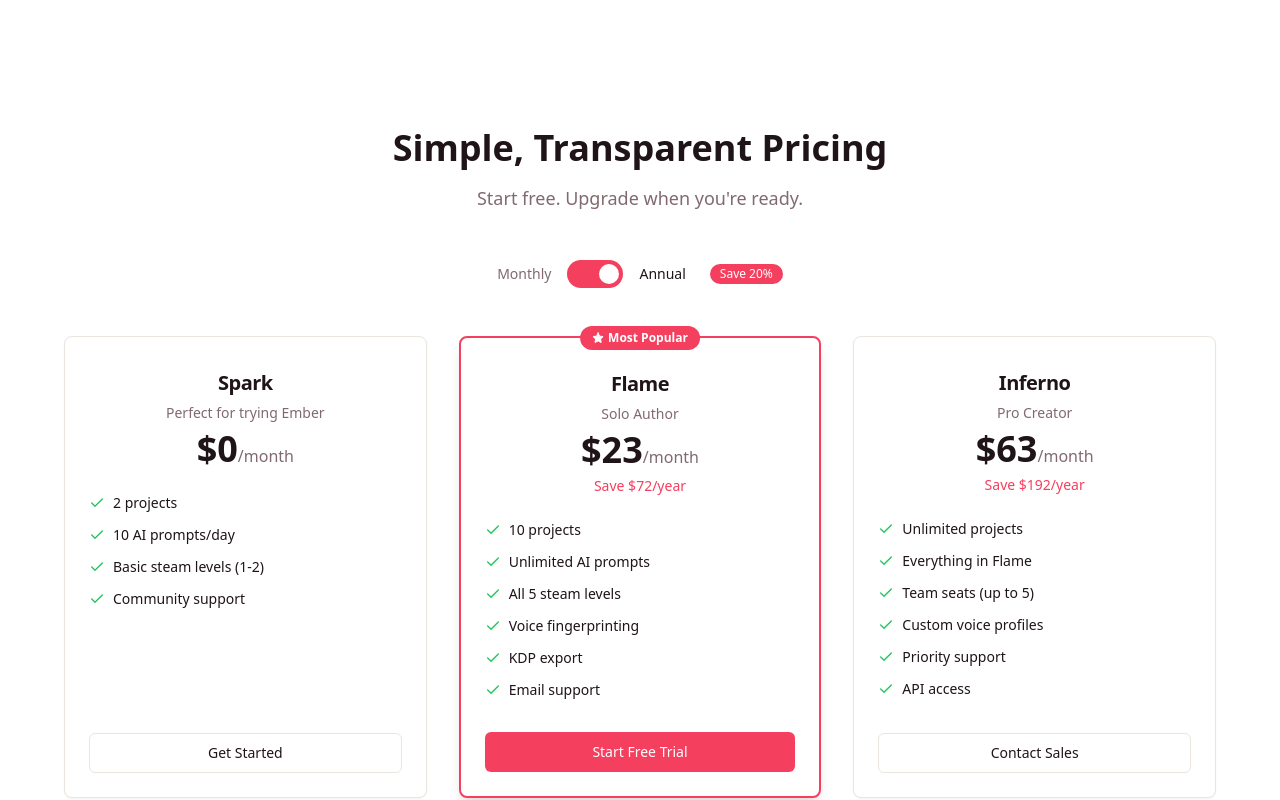
Scenario: PricingSection › toggle switches between monthly and annual pricing
Check: the text "$23" is shown, box x1=581 y1=425 x2=643 y2=474
Note: Click toggle to switch to monthly
Click the button named "Toggle billing period" at (595, 274), box x1=567 y1=260 x2=623 y2=288
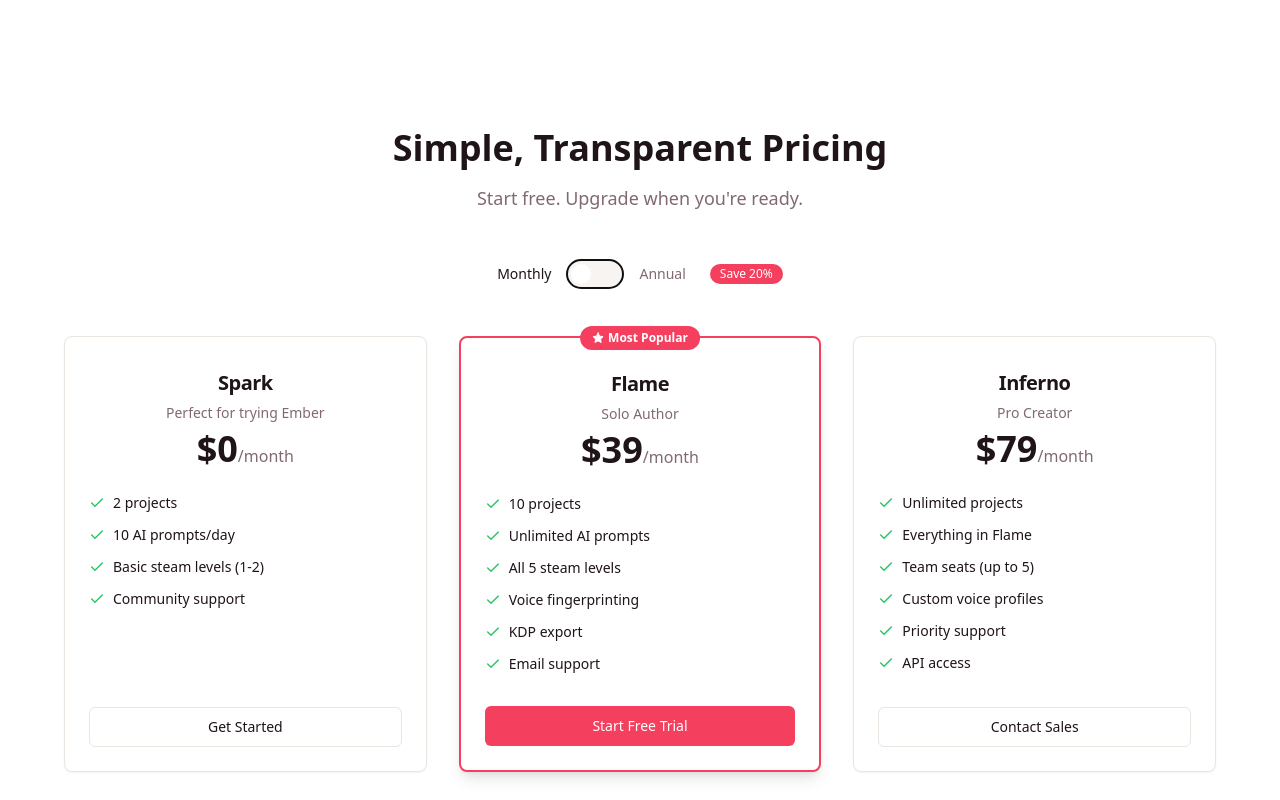
Check: the text "$39" is shown, box x1=581 y1=425 x2=643 y2=474
